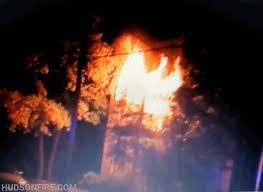fire: (91, 35, 184, 126)
